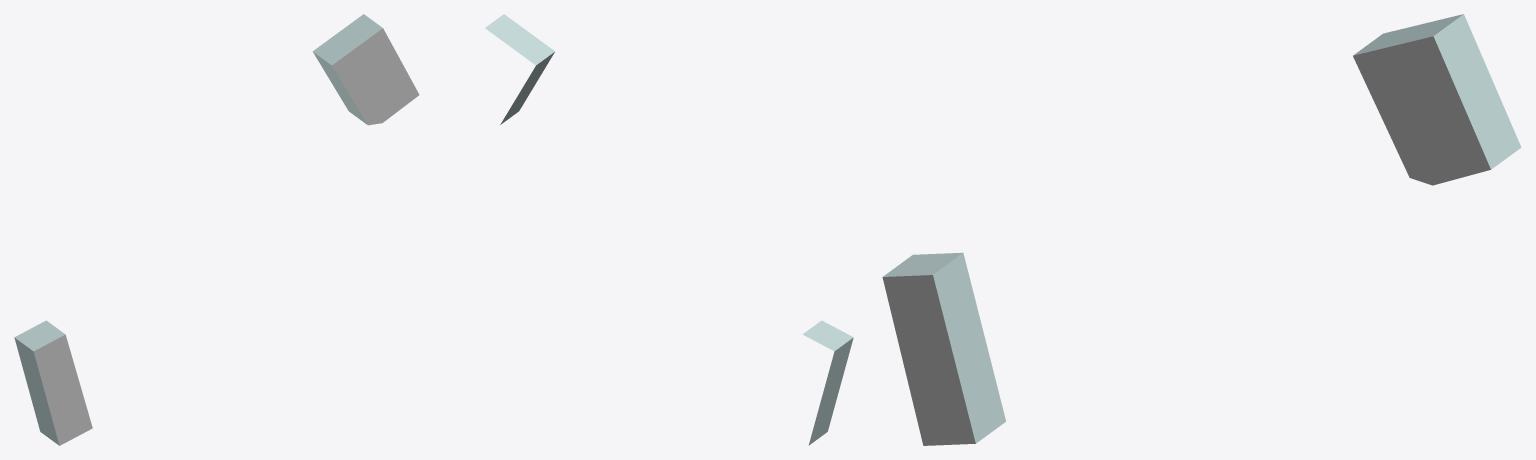
The picture shows the model from 3 angles, left to right: view 1: azimuth 30°, elevation 25°; view 2: azimuth 150°, elevation 25°; view 3: azimuth 330°, elevation 25°; orthographic projection. The views are drawn at different scales.
Parts seen in each view (by area): view 1: 0_2_2_3_1_2_0_2_2; view 2: 0_2_2_3_1_2_0_2_2; view 3: 0_2_2_3_1_2_0_2_2.
Boxes of the visible parts, x1,y1,x2,y2 form: 0_2_2_3_1_2_0_2_2: (14, 14, 419, 445); 0_2_2_3_1_2_0_2_2: (485, 14, 853, 445); 0_2_2_3_1_2_0_2_2: (882, 14, 1521, 445).
Size of the model in its own units: 34.66 by 29.07 by 3.01.
